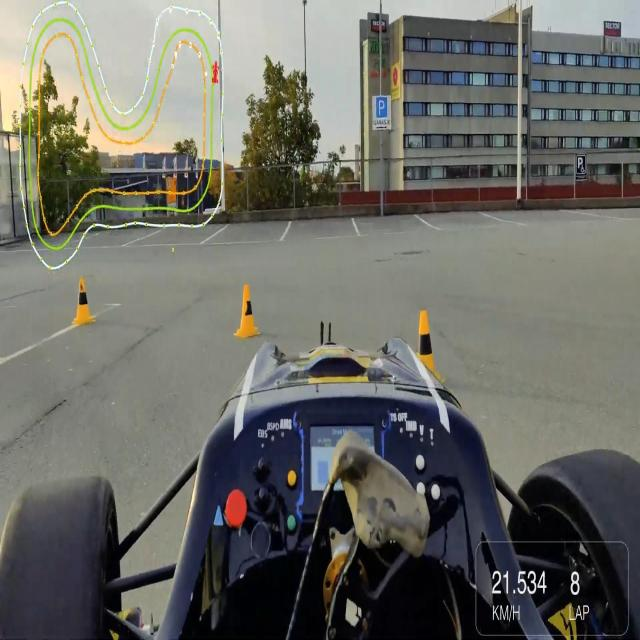yellow_cone: (224, 280, 262, 340), (410, 309, 438, 371), (71, 276, 96, 331)
